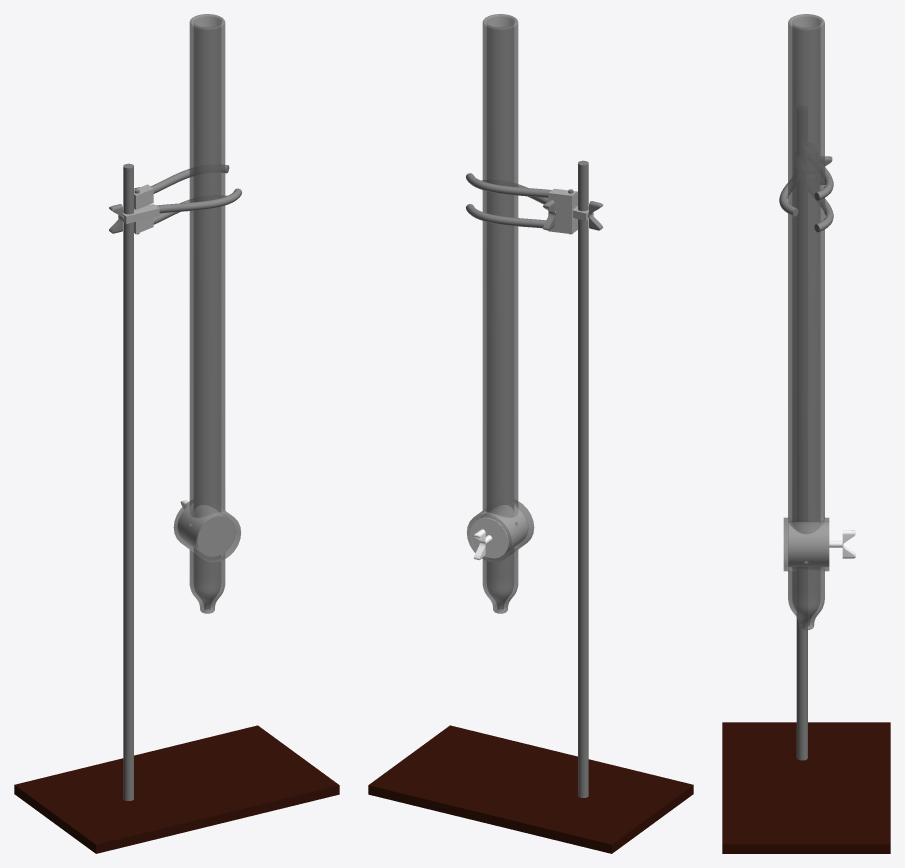
The model's file is Buret.obj.
The picture shows the model from 3 angles, left to right: view 1: azimuth 30°, elevation 25°; view 2: azimuth 150°, elevation 25°; view 3: azimuth 270°, elevation 25°; orthographic projection. The views are drawn at different scales.
Visible parts, largest first — view 1: Mesh1 Titration_Items1 Model, Mesh2 Titration_Items1 Model, Mesh3 Titration_Items1 Model; view 2: Mesh1 Titration_Items1 Model, Mesh2 Titration_Items1 Model, Mesh3 Titration_Items1 Model; view 3: Mesh1 Titration_Items1 Model, Mesh2 Titration_Items1 Model, Mesh3 Titration_Items1 Model.
Boxes of the visible parts, x1,y1,x2,y2 form: Mesh1 Titration_Items1 Model: (14,163,339,853); Mesh2 Titration_Items1 Model: (173,14,241,613); Mesh3 Titration_Items1 Model: (178,500,234,556); Mesh1 Titration_Items1 Model: (368,160,693,853); Mesh2 Titration_Items1 Model: (466,14,534,613); Mesh3 Titration_Items1 Model: (470,505,527,560); Mesh1 Titration_Items1 Model: (722,156,890,853); Mesh2 Titration_Items1 Model: (783,14,829,630); Mesh3 Titration_Items1 Model: (789,522,855,566).
Bounding box in the file's own units: 86.76 × 261 × 50.49.
